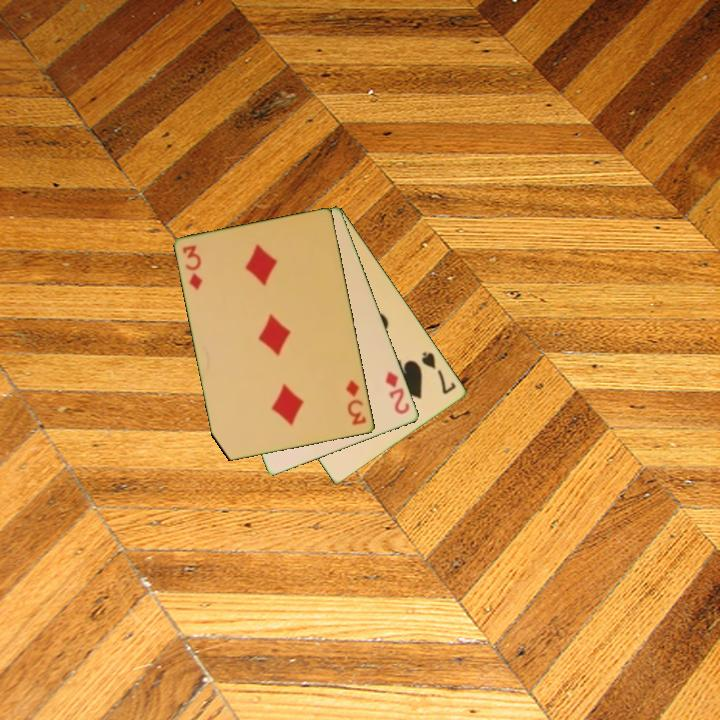2d: (382, 368, 413, 417)
3d: (343, 377, 370, 428), (179, 242, 206, 293)
7s: (418, 348, 460, 397)
